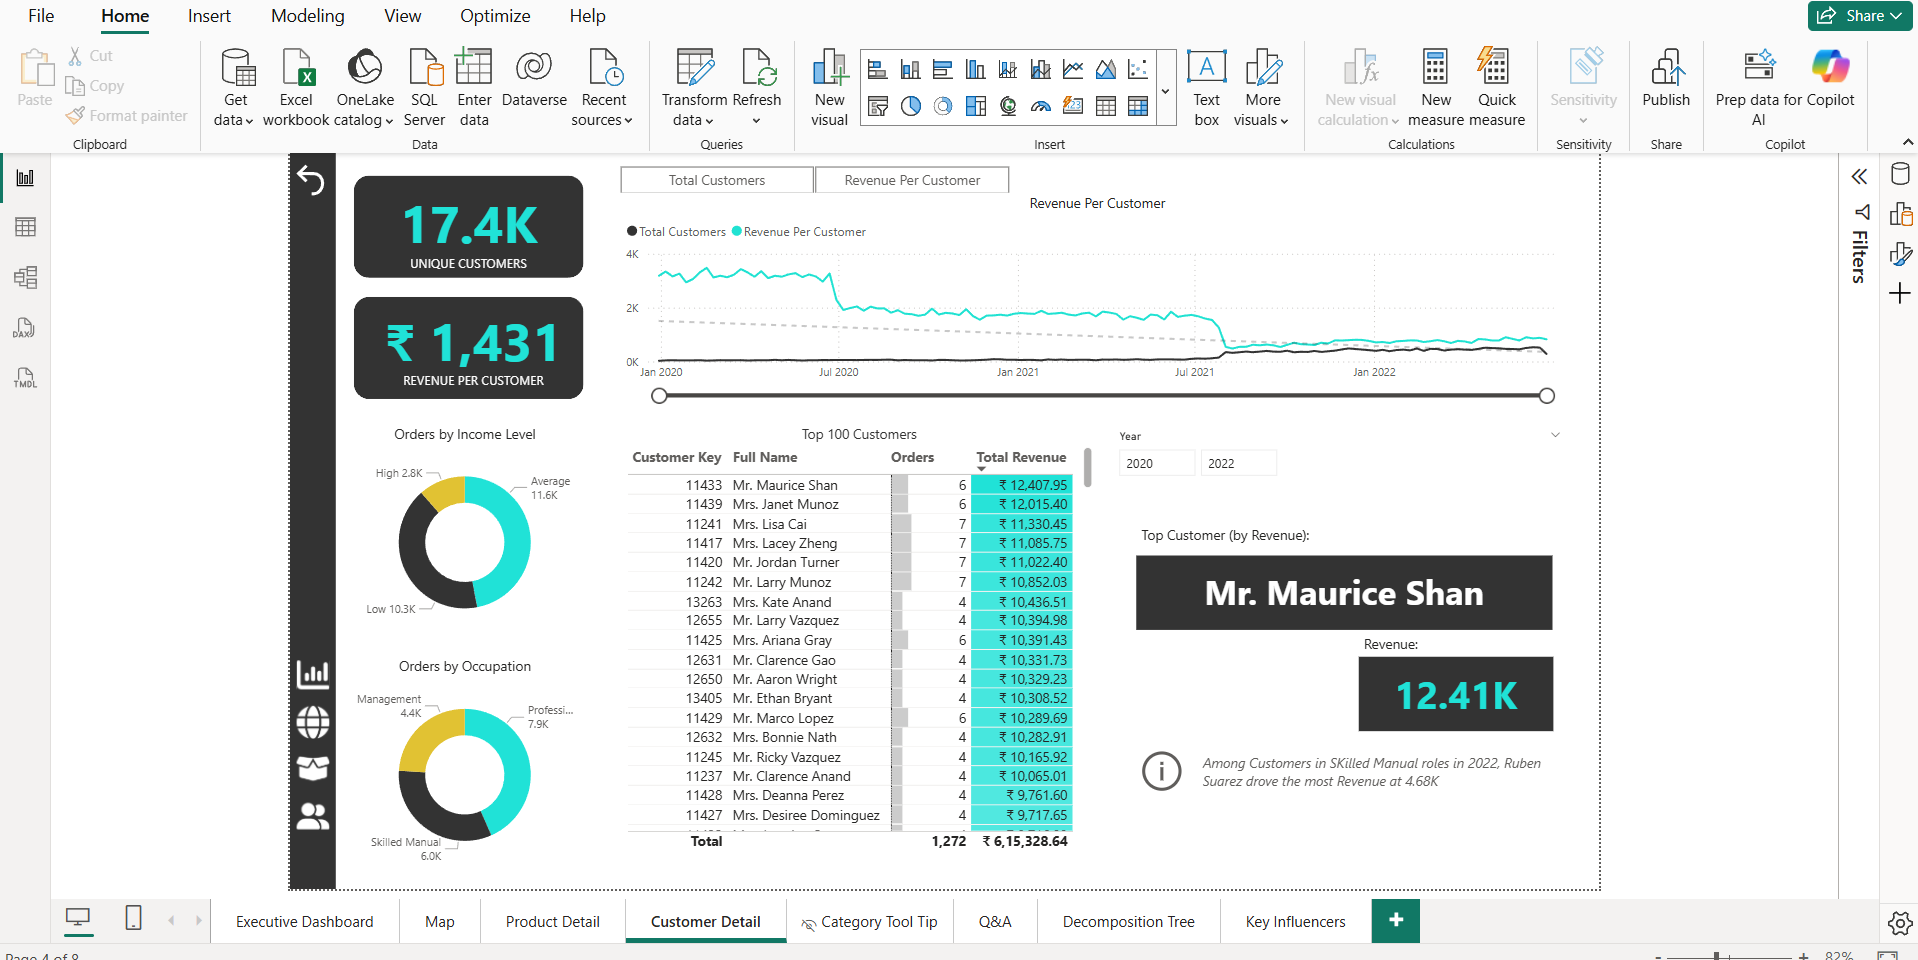

This screenshot's page, from the dashboard's own definition file:
{"tool":"powerbi","page":{"name":"Customer Detail","canvas":[1280,720],"ordinal":3},"visuals":[{"type":"shape","box":[62.1,22,224.9,100.2],"z":0},{"type":"actionButton","box":[2.7,490.2,45.2,40.3],"z":0,"group":"g1"},{"type":"shape","box":[61.9,140.3,224.9,100.2],"z":1000},{"type":"actionButton","box":[2.7,582.3,45.2,40.3],"z":1000,"group":"g1"},{"type":"card","fields":{"Values":["Measure Table.Average Revenue Per Customer"]},"box":[62.4,114.6,234.7,150.4],"z":2000},{"type":"actionButton","box":[2.7,628.3,45.2,40.3],"z":2000,"group":"g1"},{"type":"card","fields":{"Values":["Measure Table.Total Customers"]},"box":[57.5,0,234.7,150.4],"z":3000},{"type":"actionButton","box":[2.7,536.2,45.2,40.3],"z":3000,"group":"g1"},{"type":"shape","box":[0,0,45,720],"z":4000},{"type":"lineChart","fields":{"Y":["Measure Table.Total Customers","Measure Table.Average Revenue Per Customer"],"Category":["Calendar Lookup.Date Hierarchy.Start of Year","Calendar Lookup.Date Hierarchy.Start of Month","Calendar Lookup.Date Hierarchy.Start of Week","Calendar Lookup.Date Hierarchy.Date"]},"box":[323.9,39.1,931.5,209],"z":5000},{"type":"donutChart","title":"Orders by Income Level","fields":{"Category":["Customer Lookup.Income Level"],"Y":["Measure Table.Total Orders"]},"box":[55,265.3,232.3,213.9],"z":6000},{"type":"donutChart","title":"Orders by Occupation","fields":{"Y":["Measure Table.Total Orders"],"Category":["Customer Lookup.Occupation"]},"box":[55,492.6,232.3,213.9],"z":7000},{"type":"tableEx","title":"Top 100 Customers","fields":{"Values":["Customer Lookup.CustomerKey","Customer Lookup.Full Name","Measure Table.Total Orders","Measure Table.Total Revenue"]},"box":[323.9,265.3,465.7,421.7],"z":8000},{"type":"card","fields":{"Values":["Customer Lookup.Full Name (Customer Detail)"]},"box":[827.6,393.3,407.5,72.5],"z":9000},{"type":"card","fields":{"Values":["Measure Table.Total Orders (Customer Detail)"]},"box":[827.6,493,190,72.5],"z":10000},{"type":"card","fields":{"Values":["Measure Table.Total Revenue (Customer Detail)"]},"box":[1045.1,492.5,190,72.5],"z":11000},{"type":"textbox","box":[827.6,359.5,190,51.2],"z":12000},{"type":"textbox","box":[827.6,466,190,51.2],"z":13000},{"type":"textbox","box":[1045.1,466,190,51.2],"z":14000},{"type":"slicer","fields":{"Values":["Calendar Lookup.Year"]},"box":[798.2,265.3,457.2,78.2],"z":15000},{"type":"actionButton","box":[827.6,579.4,407.1,50.1],"z":16000},{"type":"actionButton","box":[0,6.1,45.2,40.3],"z":17000},{"type":"group","id":"g1","title":"Navigation Buttons","box":[2.7,490.2,45.2,178.5],"z":18000},{"type":"slicer","fields":{"Values":["Customer Metric Selection.Customer Metric Selection"]},"box":[297,6.1,430.3,33],"z":20000}]}

Visuals, with their boxes on the page's 1280x720 design canvas (x1, y1, x2, y2). These are canvas units, not pixel positions in the 1918x960 screenshot, which may show the page scaled, cropped or inside an application window:
shape: (62,22,287,122)
actionButton: (3,490,48,530)
shape: (62,140,287,240)
actionButton: (3,582,48,623)
card - Measure Table.Average Revenue Per Customer: (62,115,297,265)
actionButton: (3,628,48,669)
card - Measure Table.Total Customers: (58,0,292,150)
actionButton: (3,536,48,576)
shape: (0,0,45,720)
lineChart - Measure Table.Total Customers x Measure Table.Average Revenue Per Customer: (324,39,1255,248)
"Orders by Income Level" donutChart: (55,265,287,479)
"Orders by Occupation" donutChart: (55,493,287,706)
"Top 100 Customers" tableEx: (324,265,790,687)
card - Customer Lookup.Full Name (Customer Detail): (828,393,1235,466)
card - Measure Table.Total Orders (Customer Detail): (828,493,1018,566)
card - Measure Table.Total Revenue (Customer Detail): (1045,492,1235,565)
textbox: (828,360,1018,411)
textbox: (828,466,1018,517)
textbox: (1045,466,1235,517)
slicer - Calendar Lookup.Year: (798,265,1255,344)
actionButton: (828,579,1235,630)
actionButton: (0,6,45,46)
"Navigation Buttons" group: (3,490,48,669)
slicer - Customer Metric Selection.Customer Metric Selection: (297,6,727,39)
